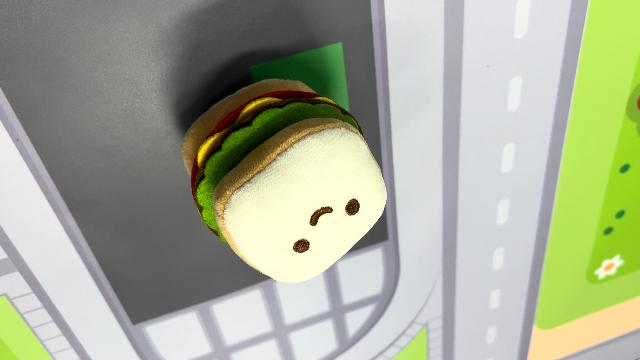sandwich: (178, 75, 390, 284)
